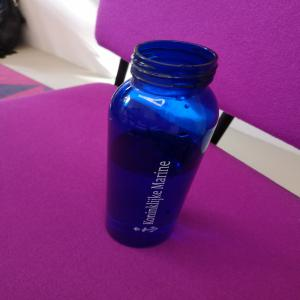Plastic-bottle: (104, 39, 222, 251)
